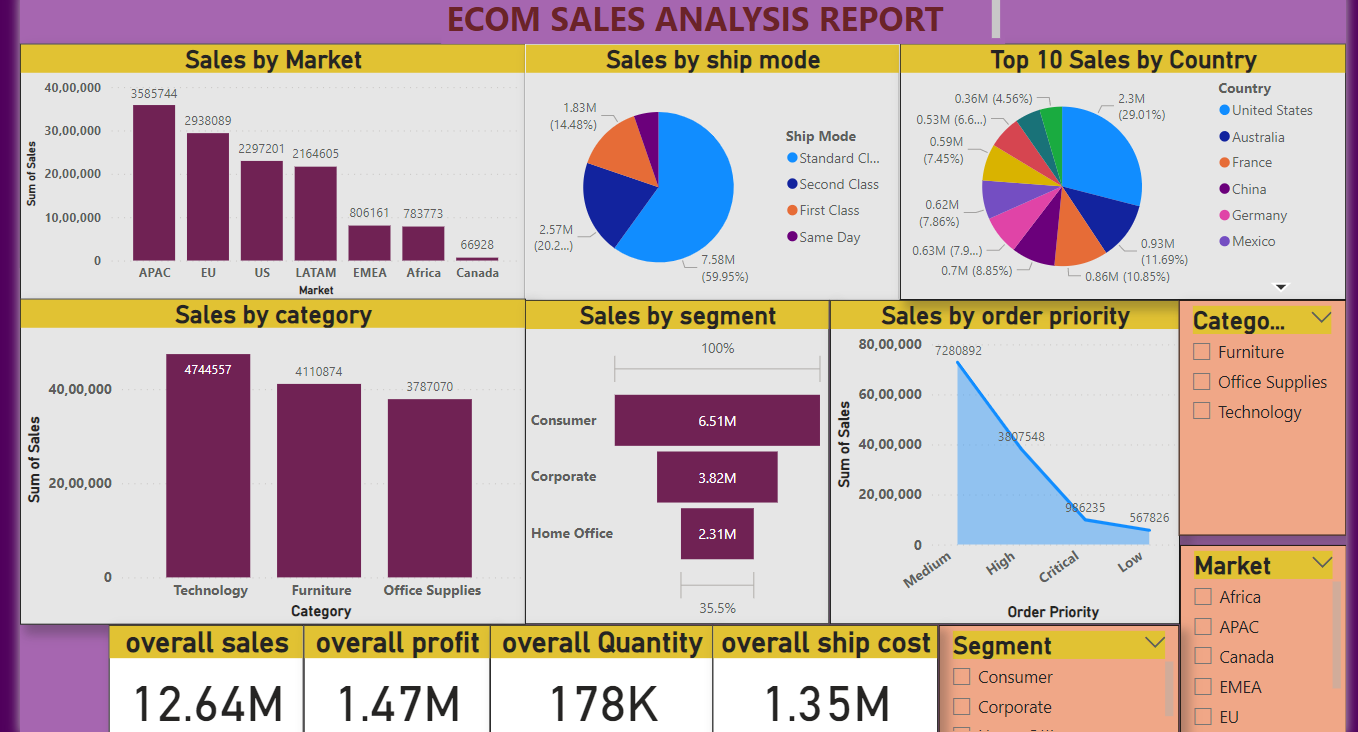

What the dashboard file says about the page in this screenshot:
{"tool":"powerbi","page":{"name":"Page 1","canvas":[1280,720],"ordinal":0},"visuals":[{"type":"columnChart","title":" Sales by Market","fields":{"Category":["Orders.Market"],"Y":["Sum(Orders.Sales)"]},"box":[0,51.3,487.7,248.1],"z":0},{"type":"pieChart","title":" Sales by ship mode","fields":{"Category":["Orders.Ship Mode"],"Y":["Sum(Orders.Sales)"]},"box":[487.7,51.3,361.8,248.1],"z":1000},{"type":"columnChart","title":" Sales by category","fields":{"Y":["Sum(Orders.Sales)"],"Category":["Orders.Category"]},"box":[0,298.3,487.7,314.2],"z":2000},{"type":"funnel","title":" Sales by segment","fields":{"Category":["Orders.Segment"],"Y":["Sum(Orders.Sales)"]},"box":[487.1,299.1,293.7,312.9],"z":3000},{"type":"areaChart","title":" Sales by order priority","fields":{"Category":["Orders.Order Priority"],"Y":["Sum(Orders.Sales)"]},"box":[781.1,299.5,337.4,312.9],"z":4000},{"type":"pieChart","title":"Top 10 Sales by Country","fields":{"Category":["Orders.Country"],"Y":["Sum(Orders.Sales)"]},"box":[849.6,51.3,430.3,246.9],"z":5000},{"type":"slicer","fields":{"Values":["Orders.Category"]},"box":[1118.5,299.5,161.4,227.4],"z":6000},{"type":"slicer","fields":{"Values":["Orders.Market"]},"box":[1119,536,161,184],"z":7000},{"type":"slicer","fields":{"Values":["Orders.Segment"]},"box":[886.2,612.4,232.3,107.6],"z":8000},{"type":"card","title":"overall sales","fields":{"Values":["Sum(Orders.Sales)"]},"box":[85.6,612.4,188.3,107.6],"z":9000},{"type":"card","title":"overall profit","fields":{"Values":["Sum(Orders.Profit)"]},"box":[273.8,612.4,179.7,107.6],"z":10000},{"type":"card","title":"overall Quantity","fields":{"Values":["Sum(Orders.Quantity)"]},"box":[453.5,612.4,215.1,107.6],"z":11000},{"type":"card","title":"overall ship cost","fields":{"Values":["Sum(Orders.Shipping Cost)"]},"box":[668.7,612.4,217.6,107.6],"z":12000},{"type":"textbox","box":[406.4,0,543.9,51.9],"z":13000}]}

Visuals, with their boxes on the page's 1280x720 design canvas (x1, y1, x2, y2). These are canvas units, not pixel positions in the 1358x732 screenshot, which may show the page scaled, cropped or inside an application window:
" Sales by Market" columnChart: [0, 51, 488, 299]
" Sales by ship mode" pieChart: [488, 51, 850, 299]
" Sales by category" columnChart: [0, 298, 488, 612]
" Sales by segment" funnel: [487, 299, 781, 612]
" Sales by order priority" areaChart: [781, 300, 1118, 612]
"Top 10 Sales by Country" pieChart: [850, 51, 1280, 298]
slicer - Orders.Category: [1118, 300, 1280, 527]
slicer - Orders.Market: [1119, 536, 1280, 720]
slicer - Orders.Segment: [886, 612, 1118, 720]
"overall sales" card: [86, 612, 274, 720]
"overall profit" card: [274, 612, 454, 720]
"overall Quantity" card: [454, 612, 669, 720]
"overall ship cost" card: [669, 612, 886, 720]
textbox: [406, 0, 950, 52]
